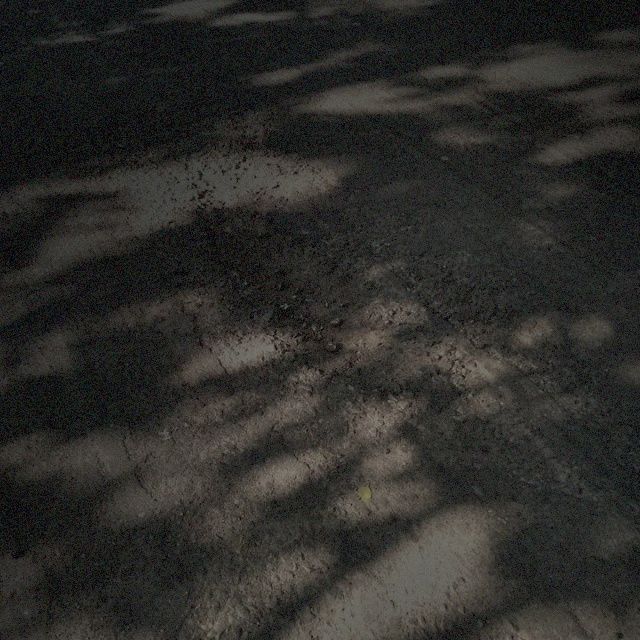pothole: (191, 200, 398, 373)
